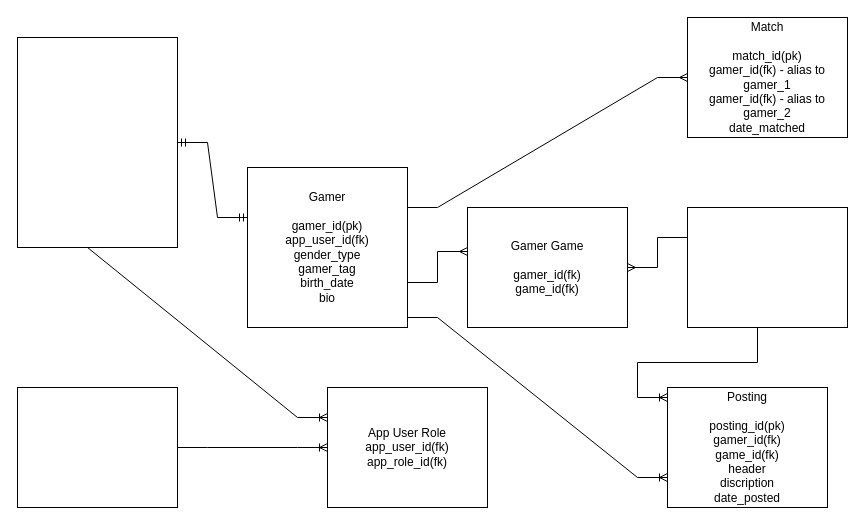
This 865x525 diagram has some shape labels left out. Here are the shapes that lost their labels. From the top down, the centre of each, then its label:
At [97,142]: "App User app_user_id(pk) username password enabled".
At [767,267]: "Game game_id(pk) game_title".
At [97,447]: "App Role app_role_id(pk) role_name".
